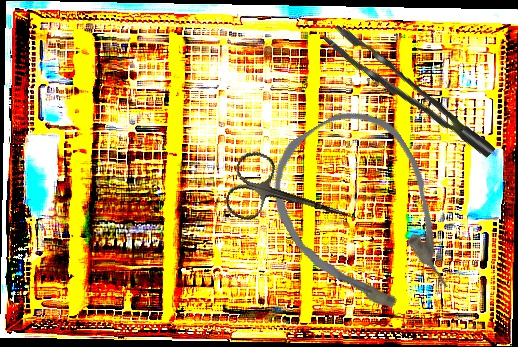Cannula: (249, 91, 480, 343)
Iris Scissors: (221, 146, 364, 252)
Tissue Forceps: (323, 9, 496, 179)
